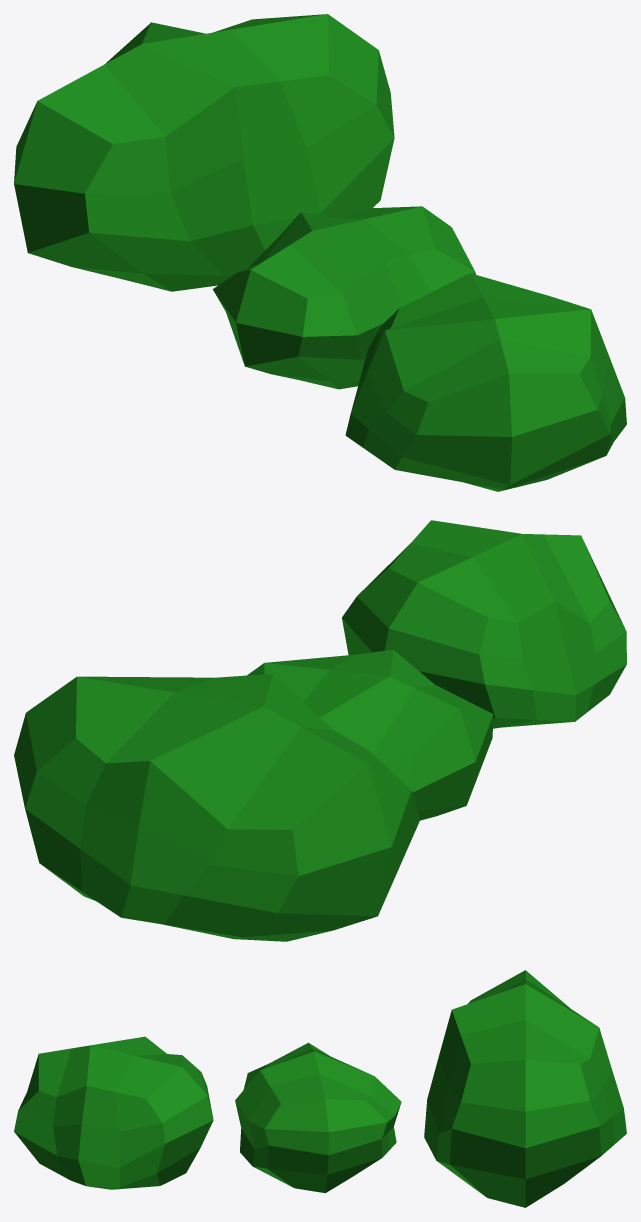
The model's file is All_3_bushes.fbx.
3 views of the same model, one above another, from view 1: azimuth 30°, elevation 25°; view 2: azimuth 150°, elevation 25°; view 3: azimuth 270°, elevation 25° (orthographic). The views are drawn at different scales.
Visible parts, largest first — view 1: ruler_flower2, ruler_flower4, ruler_flower3; view 2: ruler_flower2, ruler_flower4, ruler_flower3; view 3: ruler_flower2, ruler_flower4, ruler_flower3.
Boxes of the visible parts, <box> form: ruler_flower2: <box>14,14,394,291</box>; ruler_flower4: <box>345,273,626,491</box>; ruler_flower3: <box>212,206,475,389</box>; ruler_flower2: <box>14,673,420,941</box>; ruler_flower4: <box>342,520,626,728</box>; ruler_flower3: <box>247,649,493,820</box>; ruler_flower2: <box>424,970,626,1207</box>; ruler_flower4: <box>14,1036,213,1189</box>; ruler_flower3: <box>235,1042,401,1193</box>.
Bounding box in the file's own units: 450 × 261 × 890.
